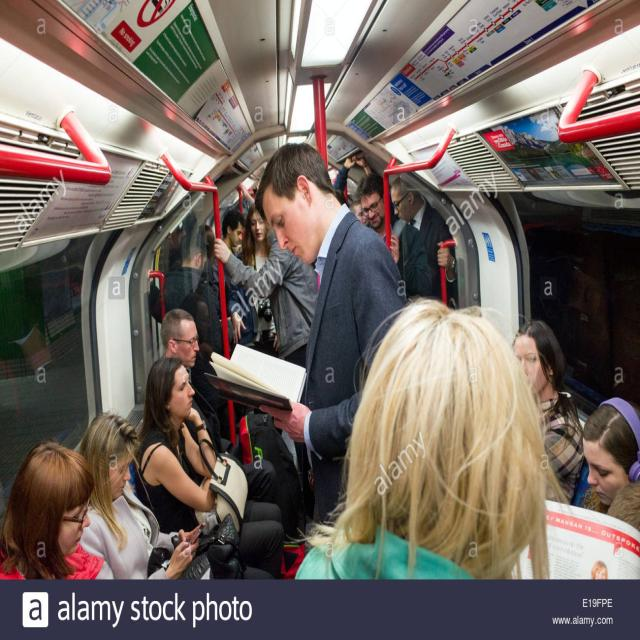body: (292, 300, 545, 594), (252, 140, 407, 526), (212, 189, 322, 523), (134, 356, 285, 578), (325, 153, 400, 472), (160, 308, 280, 502), (80, 408, 208, 580), (0, 441, 113, 581), (504, 318, 585, 510), (0, 276, 88, 442), (356, 172, 435, 300), (148, 229, 226, 358), (389, 174, 460, 312), (227, 198, 282, 358), (578, 396, 640, 531), (208, 207, 248, 315), (168, 210, 199, 264), (200, 225, 218, 265), (232, 180, 256, 206), (592, 558, 609, 580)
